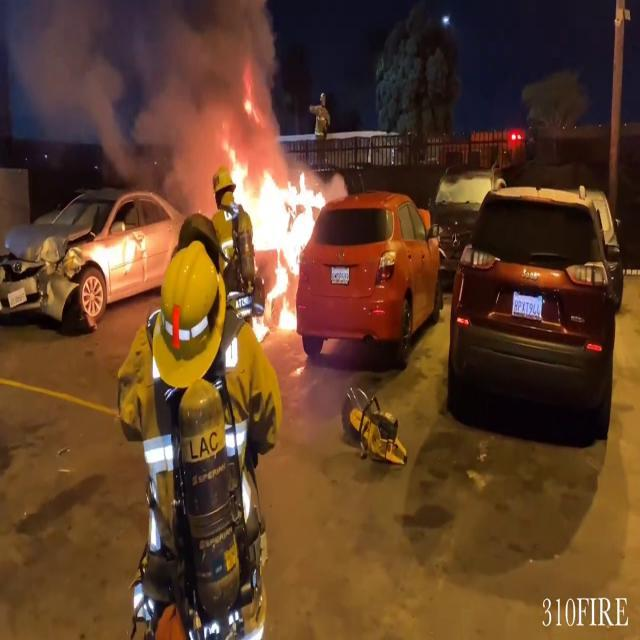Fire: (220, 144, 328, 336)
Smoke: (0, 0, 290, 169)
